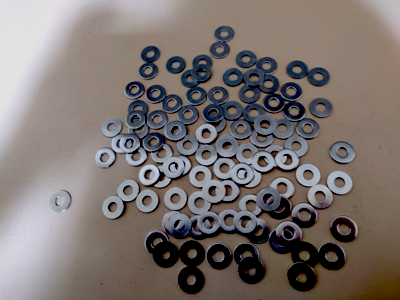circle: (289, 263, 316, 291), (331, 216, 358, 243), (319, 243, 346, 270), (239, 257, 265, 284), (276, 221, 303, 247), (292, 242, 318, 269), (234, 243, 260, 269), (307, 185, 333, 210), (269, 229, 295, 254), (292, 203, 318, 228), (327, 172, 354, 196), (179, 267, 203, 293), (207, 244, 231, 270), (180, 241, 204, 266), (168, 214, 192, 239), (296, 164, 321, 188), (257, 188, 282, 212), (267, 195, 292, 219), (234, 211, 259, 235), (246, 219, 270, 244), (330, 141, 356, 164), (188, 192, 212, 216), (154, 243, 178, 267), (146, 232, 170, 256), (217, 210, 241, 234), (239, 164, 262, 189), (136, 190, 159, 214), (275, 149, 299, 172), (198, 212, 221, 236), (189, 216, 212, 240), (164, 188, 187, 211), (252, 150, 275, 173), (162, 212, 186, 234), (239, 195, 263, 217), (270, 178, 295, 199), (203, 181, 225, 204), (216, 136, 239, 158), (236, 144, 259, 166), (285, 137, 308, 159), (103, 196, 124, 220), (50, 191, 72, 213), (118, 180, 140, 202), (163, 157, 185, 179), (190, 167, 212, 189), (214, 158, 236, 180), (150, 166, 171, 189), (216, 181, 239, 202), (297, 118, 320, 139), (251, 127, 274, 148), (196, 124, 218, 145), (196, 145, 218, 166), (254, 115, 276, 136), (310, 98, 333, 118), (95, 148, 116, 169), (139, 164, 160, 185), (264, 93, 285, 114), (239, 84, 261, 104), (177, 106, 199, 126), (230, 120, 252, 140), (147, 110, 168, 130), (102, 118, 123, 138), (120, 134, 141, 154), (143, 133, 164, 153), (170, 156, 191, 176), (177, 136, 198, 156), (259, 74, 280, 94), (127, 147, 147, 168), (152, 144, 173, 164), (273, 119, 294, 139), (308, 68, 330, 87), (281, 83, 303, 102), (284, 102, 306, 121), (112, 133, 132, 153), (128, 121, 149, 140), (186, 87, 207, 106), (203, 104, 224, 123), (244, 104, 265, 123), (244, 69, 266, 87), (287, 61, 309, 79), (128, 100, 148, 119), (126, 110, 146, 129), (206, 114, 226, 133), (167, 121, 186, 141), (164, 121, 184, 140), (224, 101, 243, 121), (162, 95, 183, 113), (208, 87, 229, 105), (125, 82, 145, 100), (166, 56, 186, 74), (146, 85, 166, 103), (193, 55, 213, 73), (192, 65, 212, 83), (223, 69, 243, 87), (237, 51, 257, 69), (256, 58, 277, 75), (139, 63, 159, 80), (181, 70, 201, 87), (210, 42, 229, 59), (141, 46, 160, 63), (215, 26, 235, 41)
